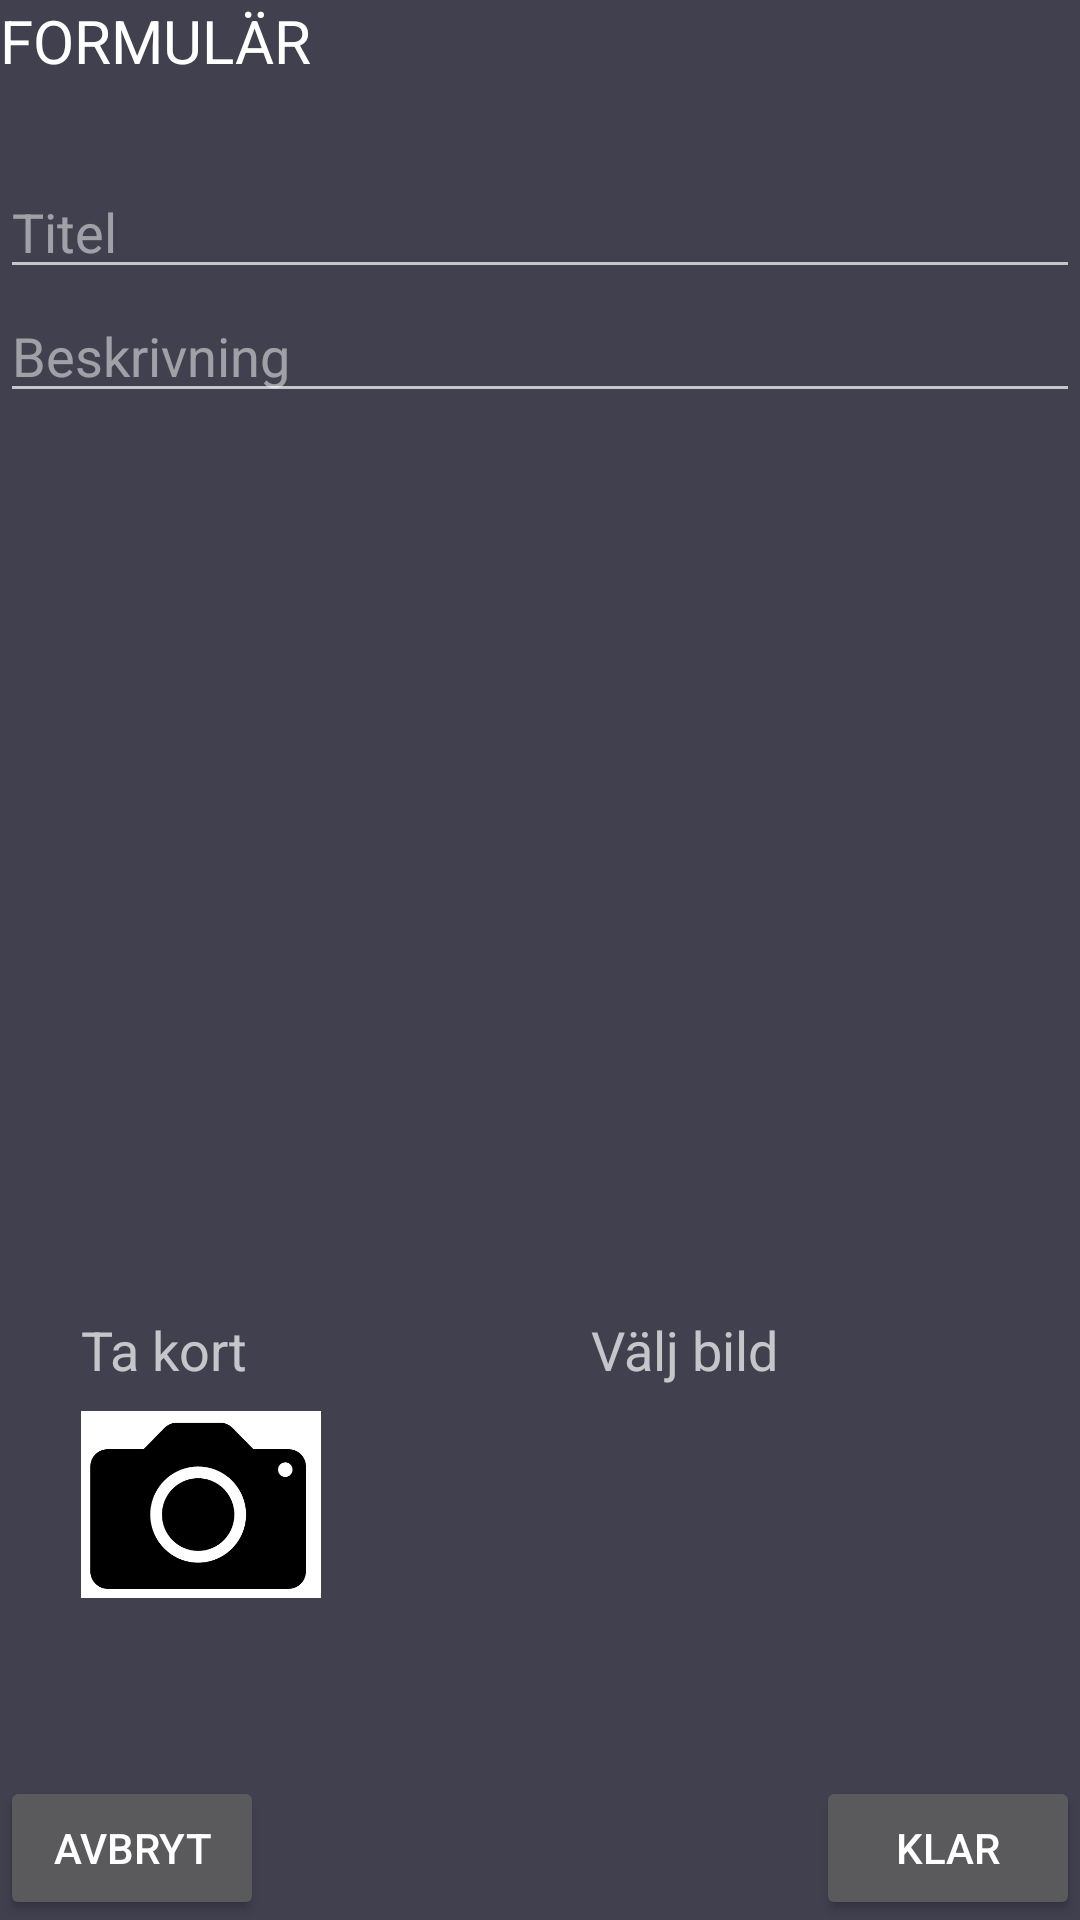

Locate icon controls on the screen. Image size 1080 × 1920, boxes as (x1, y1, x2, y2).
kamerasymbol: (81, 1411, 321, 1598)
